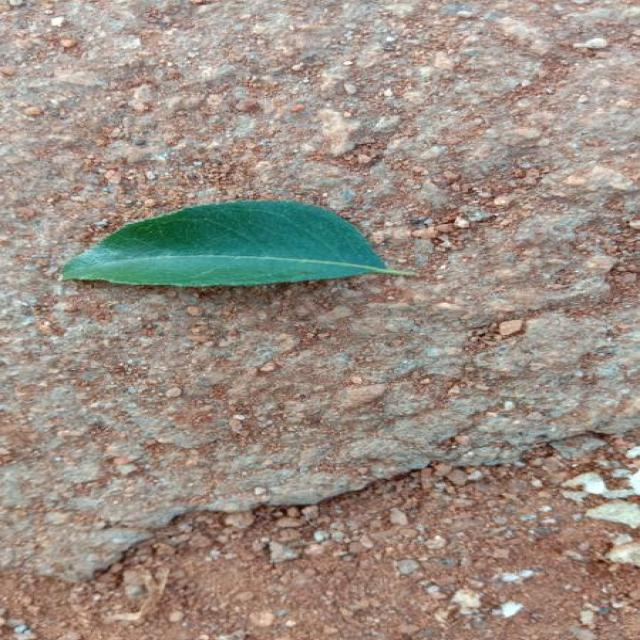curry: (62, 201, 417, 286)
